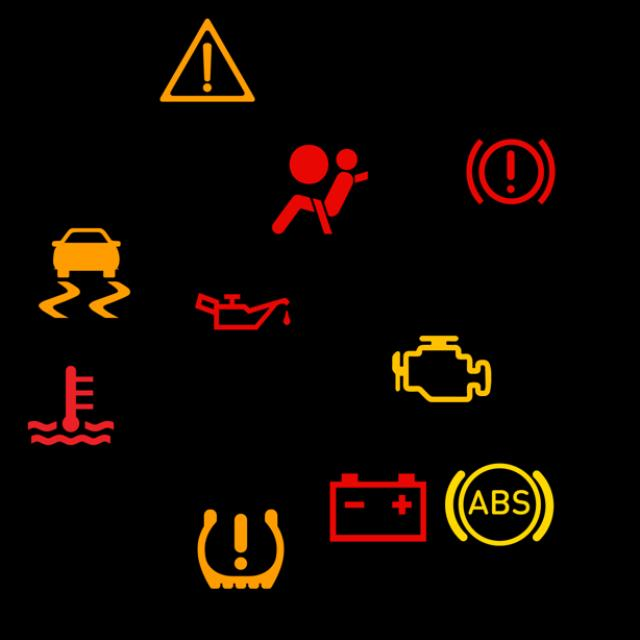Anti Lock Braking System: (440, 444, 559, 563)
Braking System Issue: (451, 112, 570, 230)
Charging System Issue: (319, 447, 438, 566)
Check Engine: (382, 308, 502, 428)
Electronic Stability Problem -ESP-: (25, 212, 144, 332)
Engine Overheating Warning Light: (11, 345, 130, 464)
Low Engine Oil Warning Light: (184, 251, 302, 370)
Low Tire Pressure Warning Light: (182, 489, 300, 608)
Master warning light: (148, 0, 267, 119)
SRS-Airbag: (260, 129, 380, 248)
